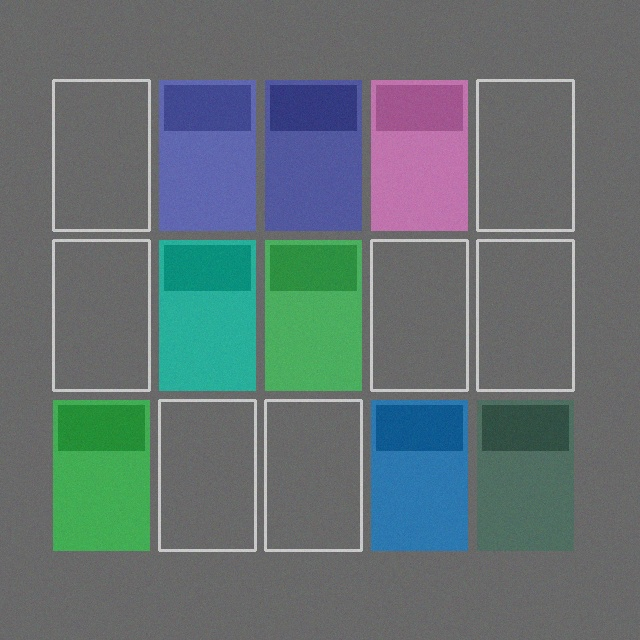space-empty: (53, 80, 149, 230), (477, 80, 573, 230), (53, 240, 149, 390), (371, 240, 467, 390), (477, 240, 573, 390), (159, 400, 255, 550), (265, 400, 361, 550)
space-occupied: (159, 80, 255, 230), (265, 80, 361, 230), (371, 80, 467, 230), (159, 240, 255, 390), (265, 240, 361, 390), (53, 400, 149, 550), (371, 400, 467, 550), (477, 400, 573, 550)
